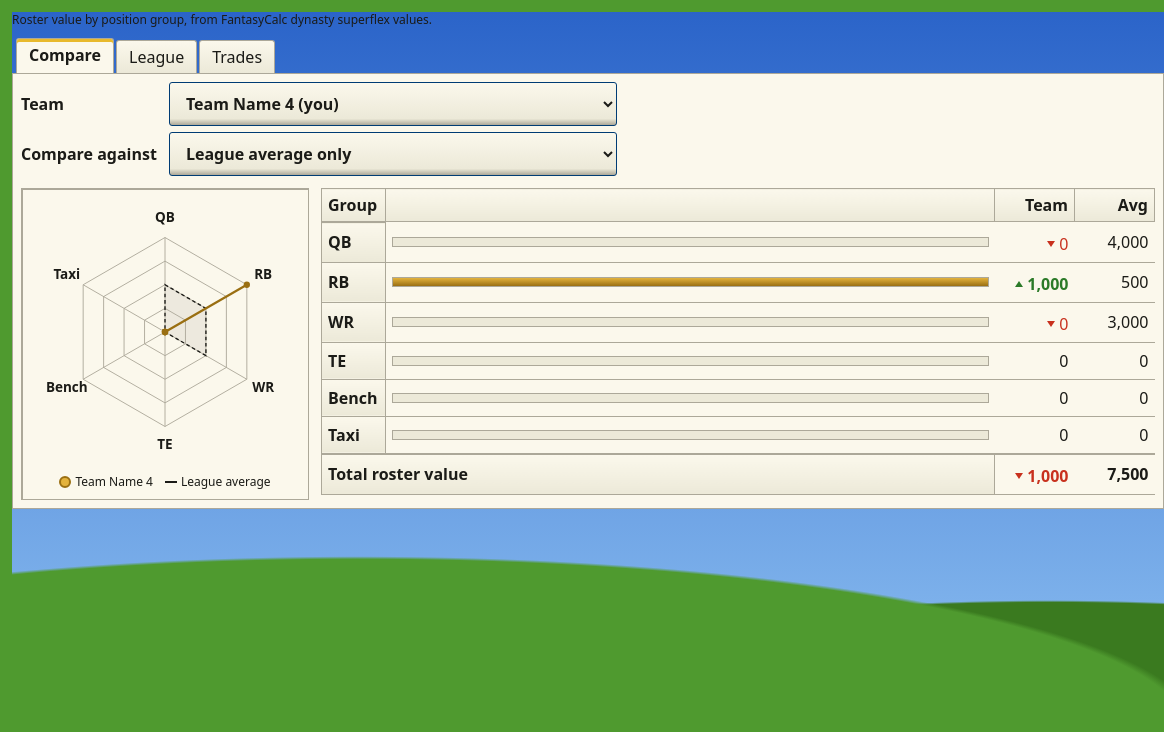
Test: Team Analyzer › explains when no fair trade fills the member's hole
The width and height of the screenshot is (1164, 732).
Click the tab "Trades".
click(237, 56)  # box left=199, top=40, right=275, bottom=73
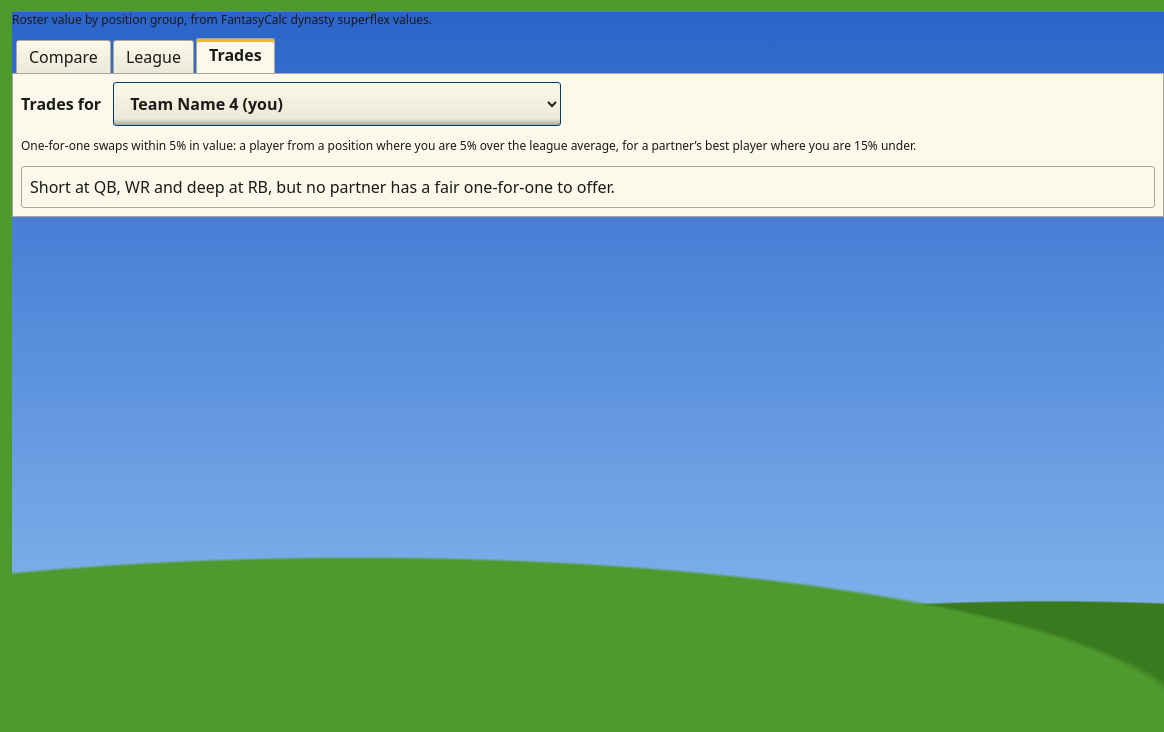
expect the dropdown labelled "Trades for" shows "Team Name 4 (you)": met, box left=113, top=82, right=561, bottom=126
expect the text "Short at QB, WR and deep at RB, but no partner has a fair one-for-one" is shown: met, box left=21, top=166, right=1155, bottom=208
